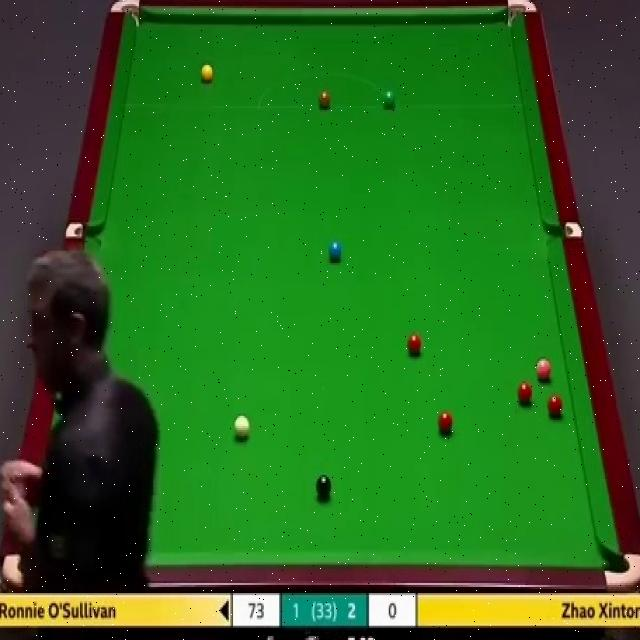black-ball: (316, 472, 332, 500)
blue-ball: (329, 241, 342, 264)
brown-ball: (319, 92, 331, 110)
green-ball: (384, 90, 395, 110)
pink-ball: (536, 358, 553, 383)
red-ball: (436, 411, 454, 436), (407, 331, 423, 356), (517, 383, 533, 405), (547, 397, 563, 418)
white-ball: (232, 414, 251, 442)
yellow-ball: (200, 65, 215, 86)
